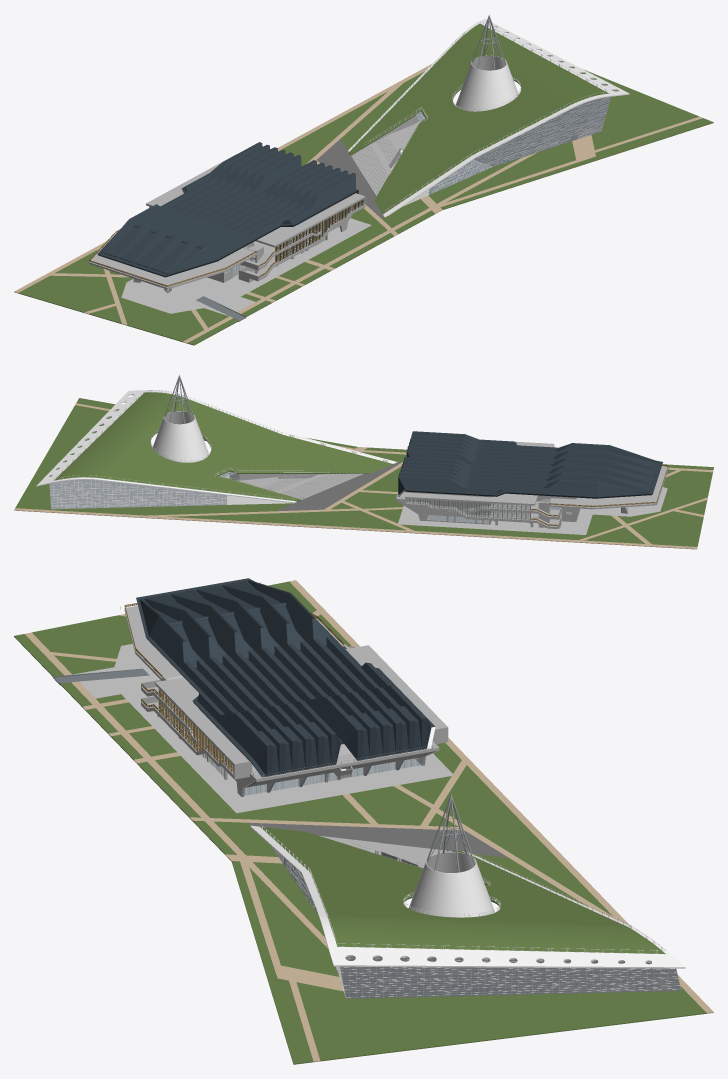
File: bim.glb
3 renders of one model, top to bottom at view 1: azimuth 30°, elevation 25°; view 2: azimuth 150°, elevation 25°; view 3: azimuth 270°, elevation 25°, orthographic. The views are drawn at different scales.
Parts seen in each view (by area): view 1: part_10, part_8_roof, part_1, part_5, part_12, part_11, part_6, part_4, part_7, part_1_walls, part_3, part_13 (+2 smaller); view 2: part_10, part_8_roof, part_5, part_1, part_12, part_6, part_1_walls, part_11, part_7, part_4_windows, part_13, part_3 (+2 smaller); view 3: part_10, part_8_roof, part_5, part_12, part_6, part_11, part_1, part_7, part_1_walls, part_13, part_4_windows, part_3 (+2 smaller).
Boxes of the visible parts, x1,y1,x2,y2 form: part_10: (18, 23, 713, 345); part_8_roof: (97, 142, 358, 277); part_1: (89, 111, 425, 287); part_5: (278, 19, 629, 258); part_12: (14, 64, 702, 343); part_11: (121, 218, 371, 316); part_6: (429, 96, 611, 194); part_4: (416, 97, 610, 194); part_7: (429, 97, 610, 193); part_1_walls: (89, 193, 365, 293); part_3: (89, 199, 363, 286); part_13: (317, 139, 384, 218); part_10: (15, 392, 713, 546); part_8_roof: (398, 431, 662, 498); part_5: (36, 390, 528, 518); part_1: (218, 441, 668, 526); part_12: (14, 403, 713, 549); part_6: (49, 438, 226, 509); part_1_walls: (396, 445, 668, 528); part_11: (398, 487, 667, 534); part_7: (49, 480, 227, 508); part_4_windows: (407, 499, 571, 522); part_13: (275, 462, 401, 511); part_3: (409, 464, 668, 526); part_10: (14, 581, 706, 1064); part_8_roof: (136, 578, 435, 777); part_5: (159, 692, 685, 968); part_12: (25, 580, 713, 1062); part_6: (283, 769, 680, 998); part_11: (73, 644, 452, 813); part_1: (124, 605, 452, 868); part_7: (283, 858, 681, 998); part_1_walls: (124, 609, 448, 796); part_13: (248, 822, 508, 857); part_4_windows: (159, 689, 420, 795); part_3: (124, 603, 354, 773).
Bounding box in the file's own units: 303 × 45.93 × 185.
